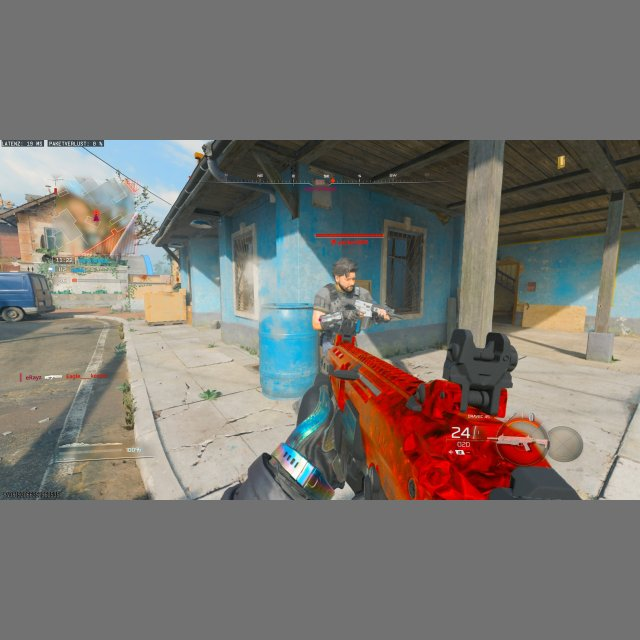head: (333, 258, 358, 290)
player: (312, 258, 392, 370)
